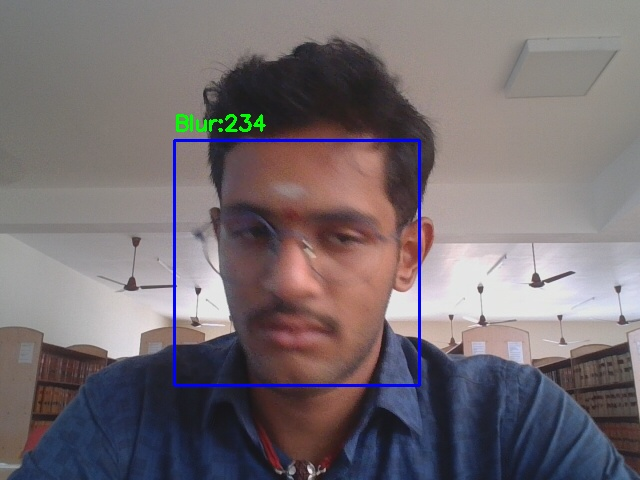real: (174, 140, 419, 385)
